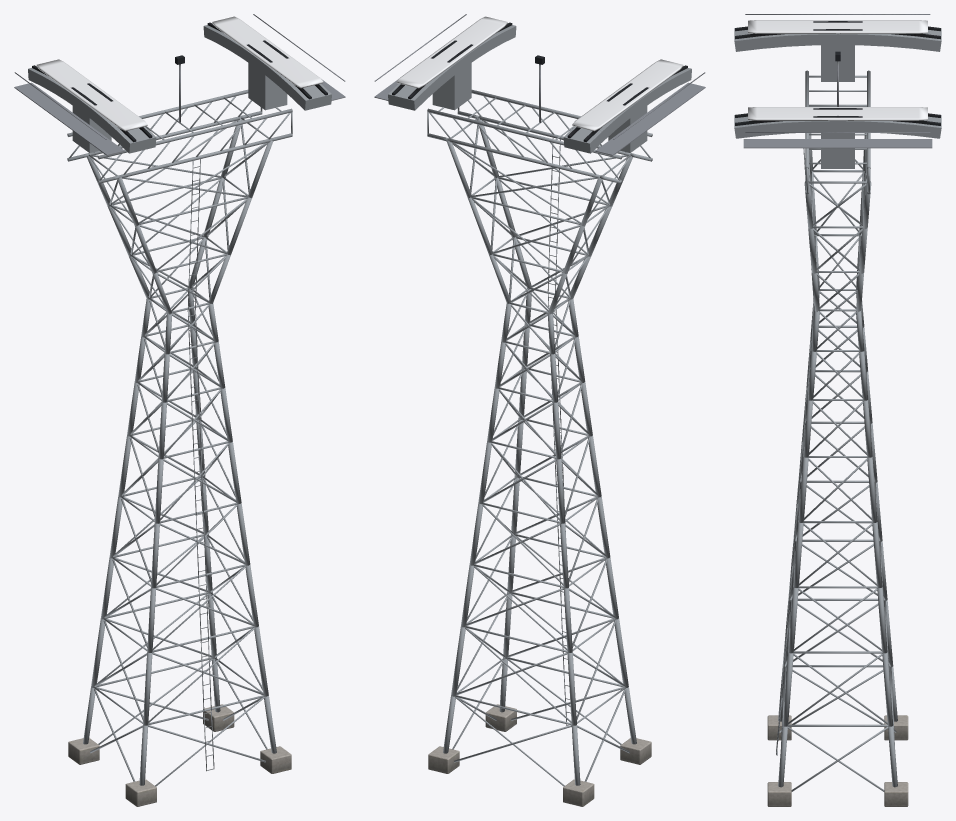
The model's file is tower_tram.glb.
The picture shows the model from 3 angles, left to right: view 1: azimuth 30°, elevation 25°; view 2: azimuth 150°, elevation 25°; view 3: azimuth 270°, elevation 25°; orthographic projection.
Visible parts, largest first — view 1: tower_tram_paint, tower_tram, tower_tram_snow; view 2: tower_tram_paint, tower_tram, tower_tram_snow; view 3: tower_tram_paint, tower_tram, tower_tram_snow.
Part boxes in pixels (x1,y1,x2,y2): tower_tram_paint: (28, 25, 331, 786); tower_tram: (14, 14, 345, 806); tower_tram_snow: (36, 16, 323, 131); tower_tram_paint: (388, 25, 691, 786); tower_tram: (374, 14, 705, 806); tower_tram_snow: (396, 16, 683, 131); tower_tram_paint: (734, 28, 941, 791); tower_tram: (735, 14, 940, 806); tower_tram_snow: (748, 20, 927, 120).
Size of the model in its own units: 16.36 by 46.1 by 12.1.
3 materials, 1 textured.
